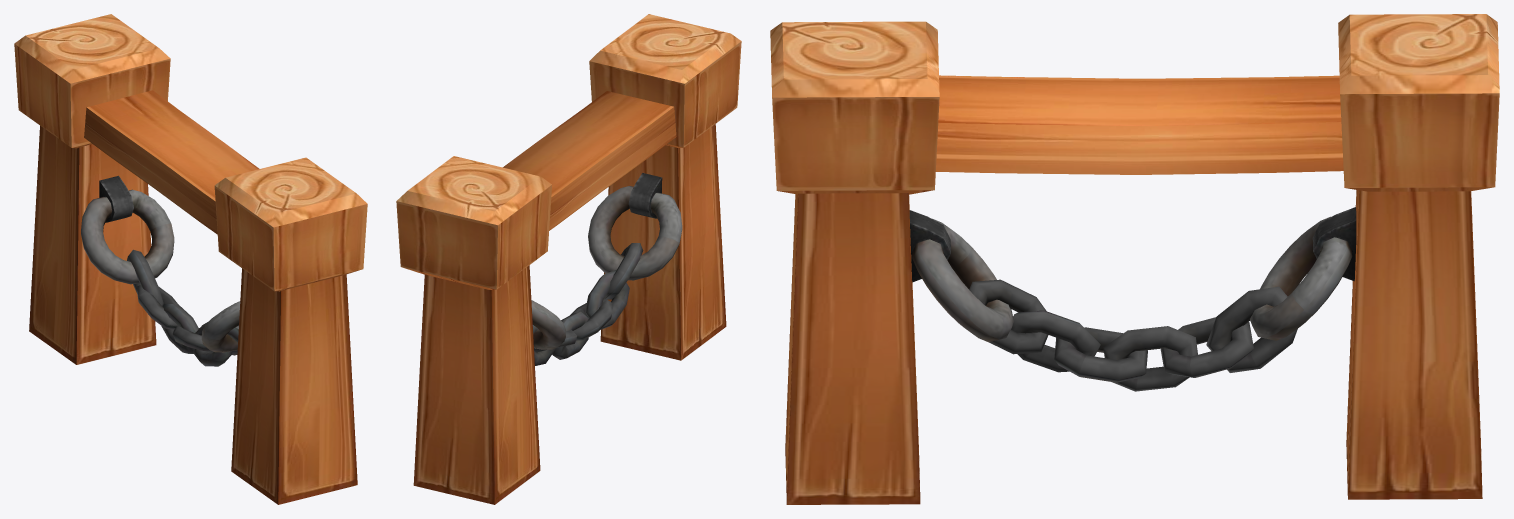
File: Grad nevidljivih ljudi samo mala ograda za vetrenjacu.fbx
3 renders of one model, left to right at view 1: azimuth 30°, elevation 25°; view 2: azimuth 150°, elevation 25°; view 3: azimuth 270°, elevation 25°, orthographic. The views are drawn at different scales.
Visible parts, largest first — view 1: mala_ograda; view 2: mala_ograda; view 3: mala_ograda.
Boxes of the visible parts, bbox=[...] form: mala_ograda: bbox=[14, 14, 367, 504]; mala_ograda: bbox=[396, 14, 741, 504]; mala_ograda: bbox=[770, 14, 1499, 504].
Bounding box in the file's own units: 0.2481 × 0.6795 × 1.05.
Materials: 2 (2 with a texture image).
